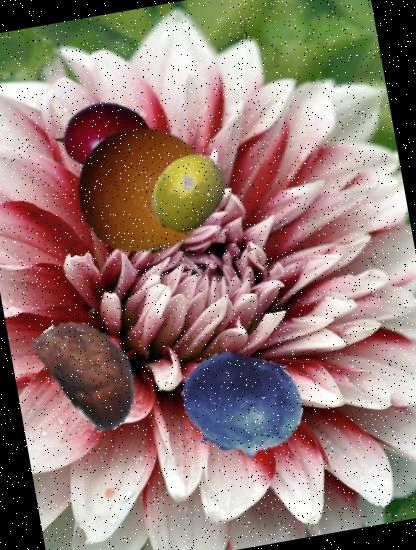Chestnut: (22, 300, 162, 440)
Huckleberry: (172, 334, 312, 474)
Maracuja: (140, 143, 238, 242)
Orange: (66, 112, 218, 266)
Tamarillo: (46, 81, 158, 193)
